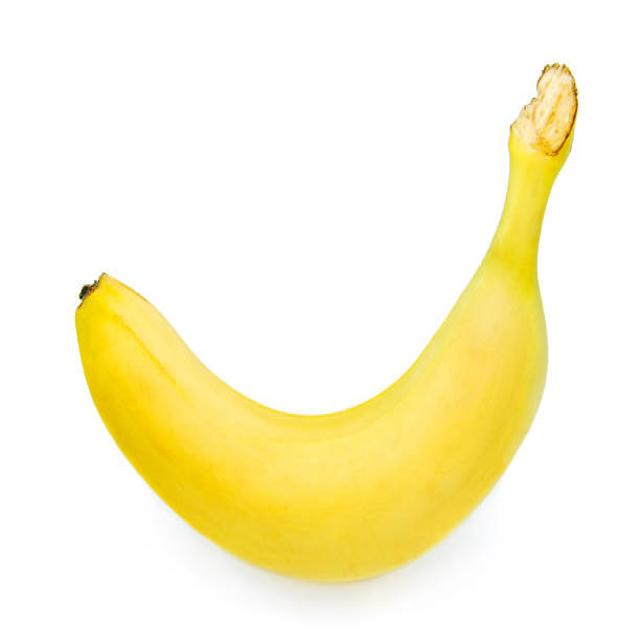Ripe: (68, 119, 558, 588)
